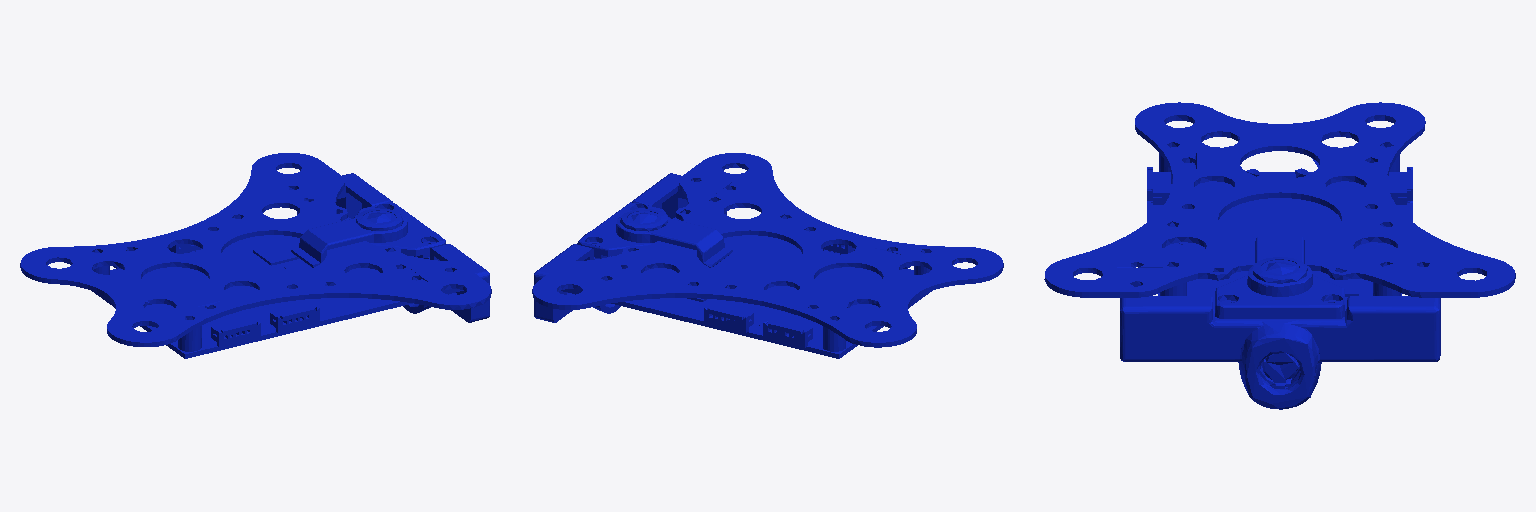
URDF robot description (sdf_pro):
<?xml version="1.0"?>
<!--
/****************************************************************************
 *   Copyright (c) 2018 [author]. All rights reserved.
 *
 * Redistribution and use in source and binary forms, with or without
 * modification, are permitted provided that the following conditions
 * are met:
 *
 * 1. Redistributions of source code must retain the above copyright
 *    notice, this list of conditions and the following disclaimer.
 * 2. Redistributions in binary form must reproduce the above copyright
 *    notice, this list of conditions and the following disclaimer in
 *    the documentation and/or other materials provided with the
 *    distribution.
 * 3. Neither the name ATLFlight nor the names of its contributors may be
 *    used to endorse or promote products derived from this software
 *    without specific prior written permission.
 *
 * NO EXPRESS OR IMPLIED LICENSES TO ANY PARTY'S PATENT RIGHTS ARE GRANTED BY THIS LICENSE.
 * THIS SOFTWARE IS PROVIDED BY THE COPYRIGHT [author]
 * "AS IS" AND ANY EXPRESS OR IMPLIED WARRANTIES, INCLUDING, BUT NOT
 * LIMITED TO, THE IMPLIED WARRANTIES OF MERCHANTABILITY AND FITNESS
 * FOR A PARTICULAR PURPOSE ARE DISCLAIMED. IN NO EVENT SHALL THE
 * COPYRIGHT [author] LIABLE FOR ANY DIRECT, INDIRECT,
 * INCIDENTAL, SPECIAL, EXEMPLARY, OR CONSEQUENTIAL DAMAGES (INCLUDING,
 * BUT NOT LIMITED TO, PROCUREMENT OF SUBSTITUTE GOODS OR SERVICES; LOSS
 * OF USE, DATA, OR PROFITS; OR BUSINESS INTERRUPTION) HOWEVER CAUSED
 * AND ON ANY THEORY OF LIABILITY, WHETHER IN CONTRACT, STRICT
 * LIABILITY, OR TORT (INCLUDING NEGLIGENCE OR OTHERWISE) ARISING IN
 * ANY WAY OUT OF THE USE OF THIS SOFTWARE, EVEN IF ADVISED OF THE
 * POSSIBILITY OF SUCH DAMAGE.
 *
 * In addition Supplemental Terms apply.  See the SUPPLEMENTAL file.
 ****************************************************************************/
-->
<robot name="sdf_pro">
  <link name="imu">
    <visual>
      <geometry>
        <mesh filename="package://qflight_descriptions/meshes/sdf.stl"/>
      </geometry>
      <origin rpy="0 0 -1.57079632679" xyz="-.02886 .017 .005"/>
      <material name="blue">
        <color rgba="0.1 0.2 0.8 1"/>
      </material>
    </visual>
  </link>

  <joint name="imu_to_dfc" type="fixed">
    <parent link="imu"/>
    <child link="dfc"/>
    <origin xyz="-0.00064 0.017 0.00209" rpy="0 0 1.57079632679"/>
  </joint>
  <link name="dfc"/>

  <joint name="imu_to_hires" type="fixed">
    <parent link="imu"/>
    <child link="hires"/>
    <origin xyz="0.01133 0.017 -0.0048" rpy="1.57079632679 0 1.57079632679"/>
  </joint>
  <link name="hires"/>
</robot>

--- Facts derived from the render (not from the file) ---
The picture shows the robot from 3 angles, left to right: view 1: azimuth 30°, elevation 25°; view 2: azimuth 150°, elevation 25°; view 3: azimuth 270°, elevation 25°; orthographic projection.
Model sdf_pro with 3 links and 2 joints (2 fixed), rooted at imu, posed every joint at zero.
Links seen in each view (by area): view 1: imu; view 2: imu; view 3: imu.
Boxes of the visible links, x1,y1,x2,y2 form: imu: [20, 153, 491, 358]; imu: [532, 153, 1003, 358]; imu: [1044, 102, 1515, 409].
Bounding box of the posed robot: 0.0814 × 0.0772 × 0.0216 m (x, y, z).
1 mesh visuals loaded from 1 distinct referenced files (1 binary STL).